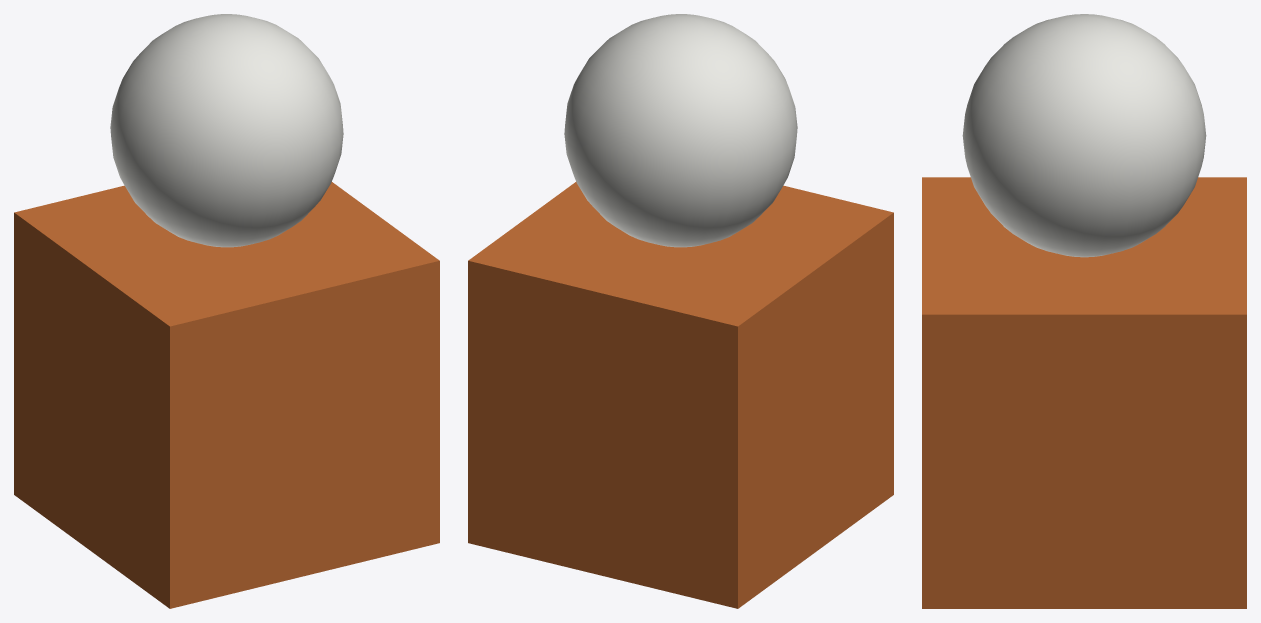
The model's file is probe.gltf.
The picture shows the model from 3 angles, left to right: view 1: azimuth 30°, elevation 25°; view 2: azimuth 150°, elevation 25°; view 3: azimuth 270°, elevation 25°; orthographic projection. The views are drawn at different scales.
Visible parts, largest first — view 1: probe; view 2: probe; view 3: probe.
Part boxes in pixels (box(x1,y1,x2,y2)): probe: box(14, 14, 439, 608); probe: box(468, 14, 893, 608); probe: box(922, 14, 1246, 608).
Size of the model in its own units: 0.8 by 1.4 by 0.8.
Materials: 2 (2 with a texture image).
